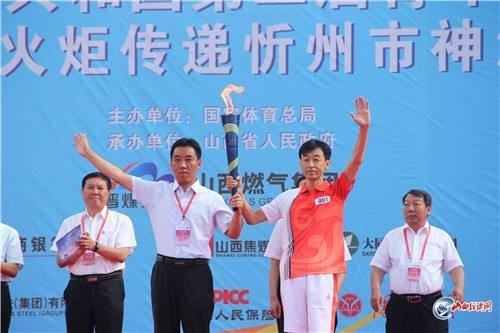fire: (220, 80, 245, 112)
